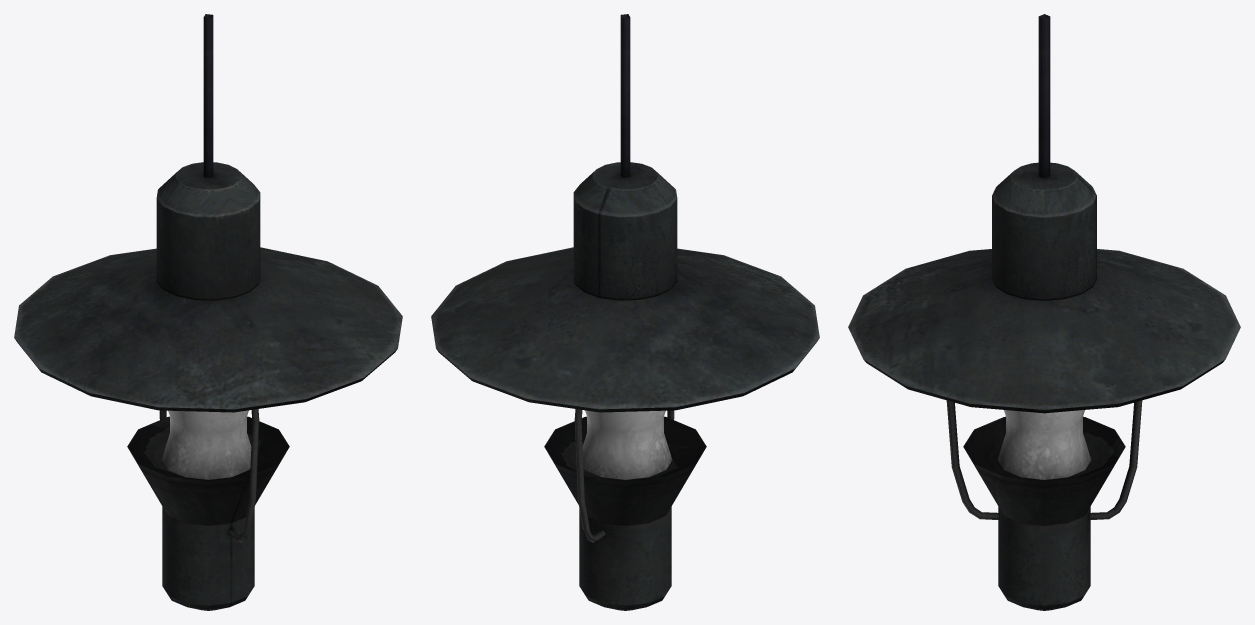
File: ceiling_lantern1_off.glb
The picture shows the model from 3 angles, left to right: view 1: azimuth 30°, elevation 25°; view 2: azimuth 150°, elevation 25°; view 3: azimuth 270°, elevation 25°; orthographic projection.
Visible parts, largest first — view 1: ceiling_lantern1_off; view 2: ceiling_lantern1_off; view 3: ceiling_lantern1_off.
Boxes of the visible parts, left/top/right/bottom form: ceiling_lantern1_off: left=14, top=14, right=402, bottom=610; ceiling_lantern1_off: left=431, top=14, right=819, bottom=610; ceiling_lantern1_off: left=848, top=14, right=1240, bottom=610.
Bounding box in the file's own units: 0.3222 × 0.5345 × 0.3231.
Materials: 1 (1 with a texture image).
